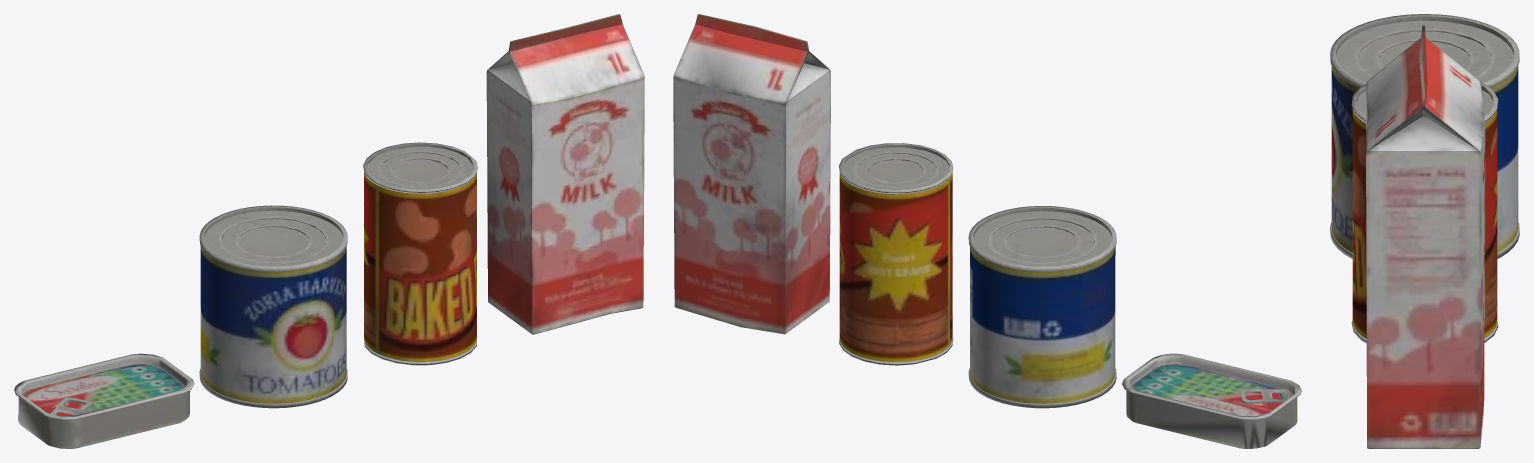
Rendered from long_life_food.glb.
3 views of the same model, side by side, from view 1: azimuth 30°, elevation 25°; view 2: azimuth 150°, elevation 25°; view 3: azimuth 270°, elevation 25° (orthographic). The views are drawn at different scales.
Visible parts, largest first — view 1: long_life_food_milk, long_life_food_tomatoes, long_life_food_beans, long_life_food_sardines; view 2: long_life_food_milk, long_life_food_tomatoes, long_life_food_beans, long_life_food_sardines; view 3: long_life_food_milk, long_life_food_tomatoes, long_life_food_beans.
Boxes of the visible parts, box(x1,y1,x2,y2) form: long_life_food_milk: box(486, 14, 644, 334); long_life_food_tomatoes: box(199, 205, 347, 408); long_life_food_beans: box(363, 142, 477, 365); long_life_food_sardines: box(14, 353, 194, 448); long_life_food_milk: box(673, 14, 830, 334); long_life_food_tomatoes: box(968, 206, 1116, 408); long_life_food_beans: box(839, 143, 953, 365); long_life_food_sardines: box(1122, 353, 1301, 448); long_life_food_milk: box(1366, 25, 1485, 448); long_life_food_tomatoes: box(1330, 14, 1519, 258); long_life_food_beans: box(1351, 81, 1498, 343).
Bounding box in the file's own units: 0.5233 × 0.2376 × 0.1136.
Materials: 1 (1 with a texture image).
